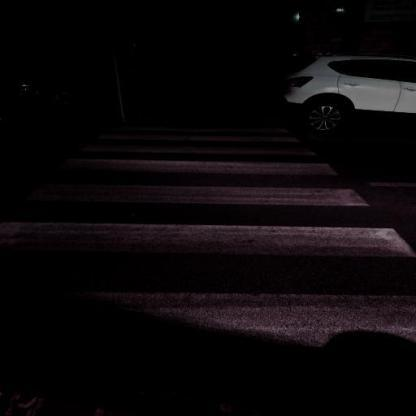crosswalk: (14, 155, 374, 209), (90, 123, 306, 145)
